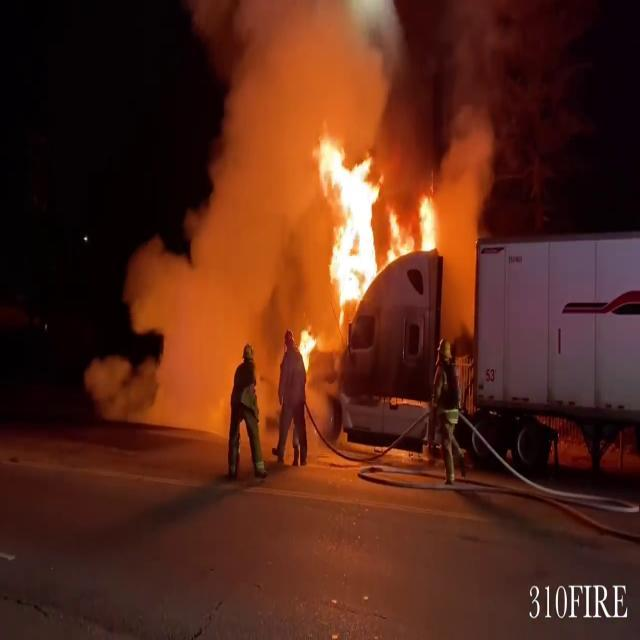Fire: (308, 132, 446, 314), (295, 324, 321, 374)
Smoke: (129, 0, 336, 454)
